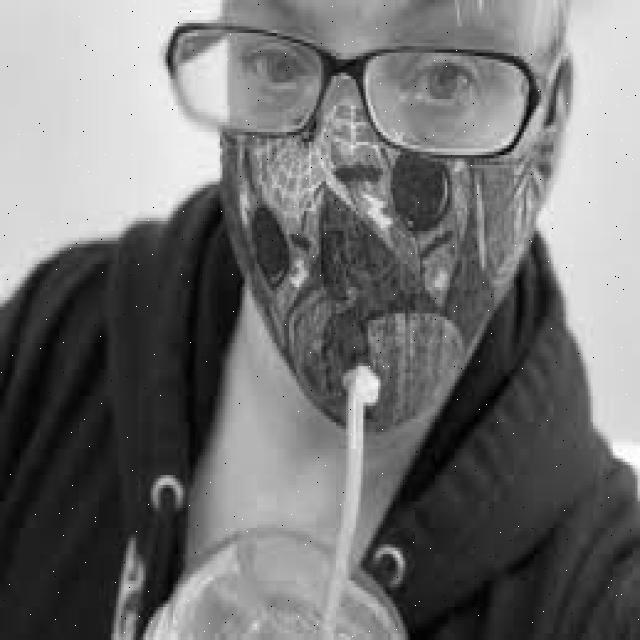fake: (196, 92, 546, 460)
real: (211, 0, 572, 440)
